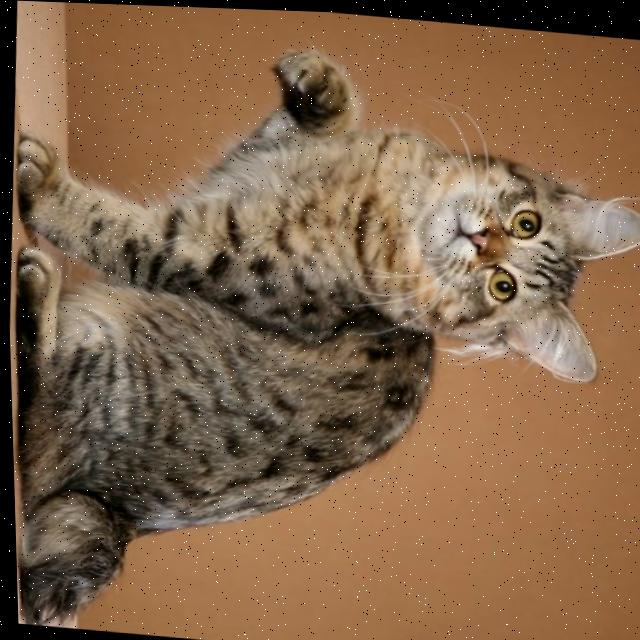American Bobtail: (0, 16, 640, 640)
